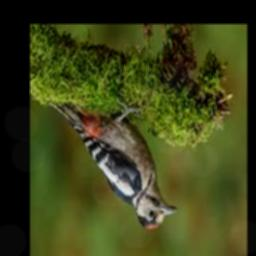Woodpecker: (50, 101, 177, 230)
